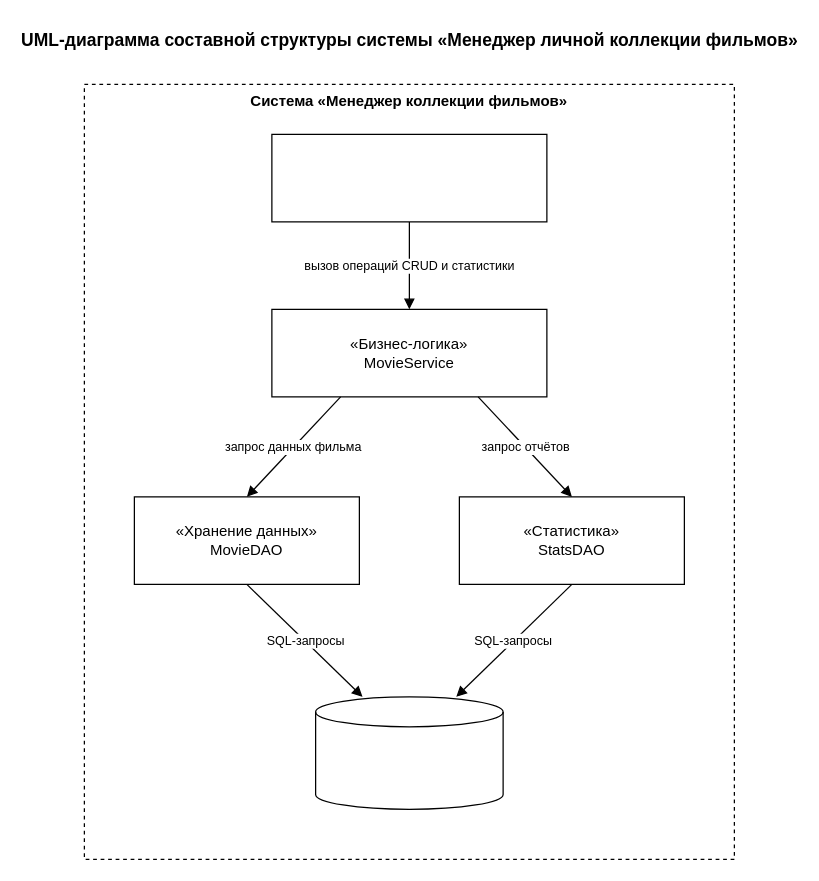
Image size: 819x881. Some labels were removed from this diagram. The centre of each missing label's shape, as x and y in pixels:
«База данных» SQLite (movies.db): (408,752)
«Пользовательский интерфейс» main.py: (409,177)
